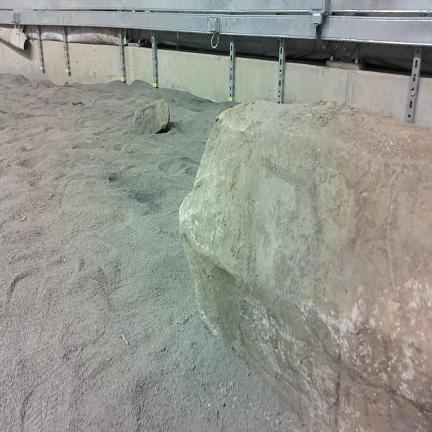Rock: (179, 101, 431, 431), (133, 100, 170, 135)
